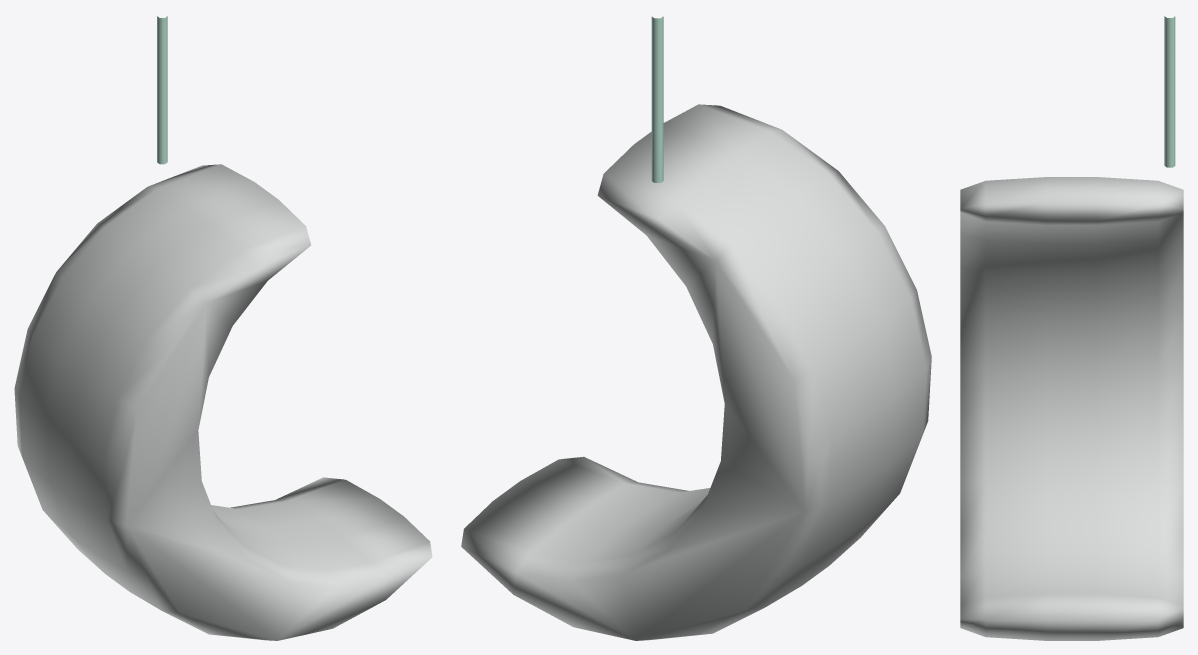
The model's file is decor_2_mint.glb.
3 views of the same model, side by side, from view 1: azimuth 30°, elevation 25°; view 2: azimuth 150°, elevation 25°; view 3: azimuth 270°, elevation 25° (orthographic). The views are drawn at different scales.
Parts seen in each view (by area): view 1: decor_2_mint; view 2: decor_2_mint; view 3: decor_2_mint.
Boxes of the visible parts, <box> form: decor_2_mint: <box>14,16,432,640</box>; decor_2_mint: <box>461,16,931,640</box>; decor_2_mint: <box>960,16,1183,640</box>.
Bounding box in the file's own units: 7.17 × 11.6 × 4.06.
